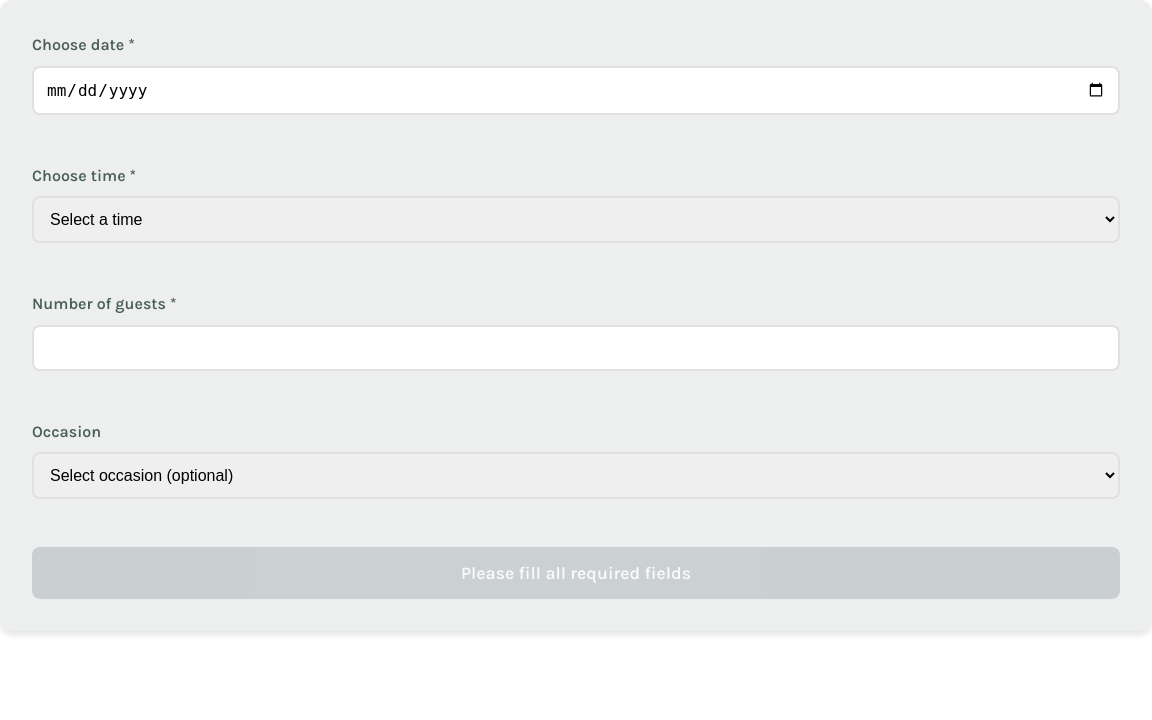
it: Guests validation works correctly
Note: Try to enter invalid number of guests
Type "0" into the number field labelled "Number of guests *" at [576, 348], box [32,325,1120,371]
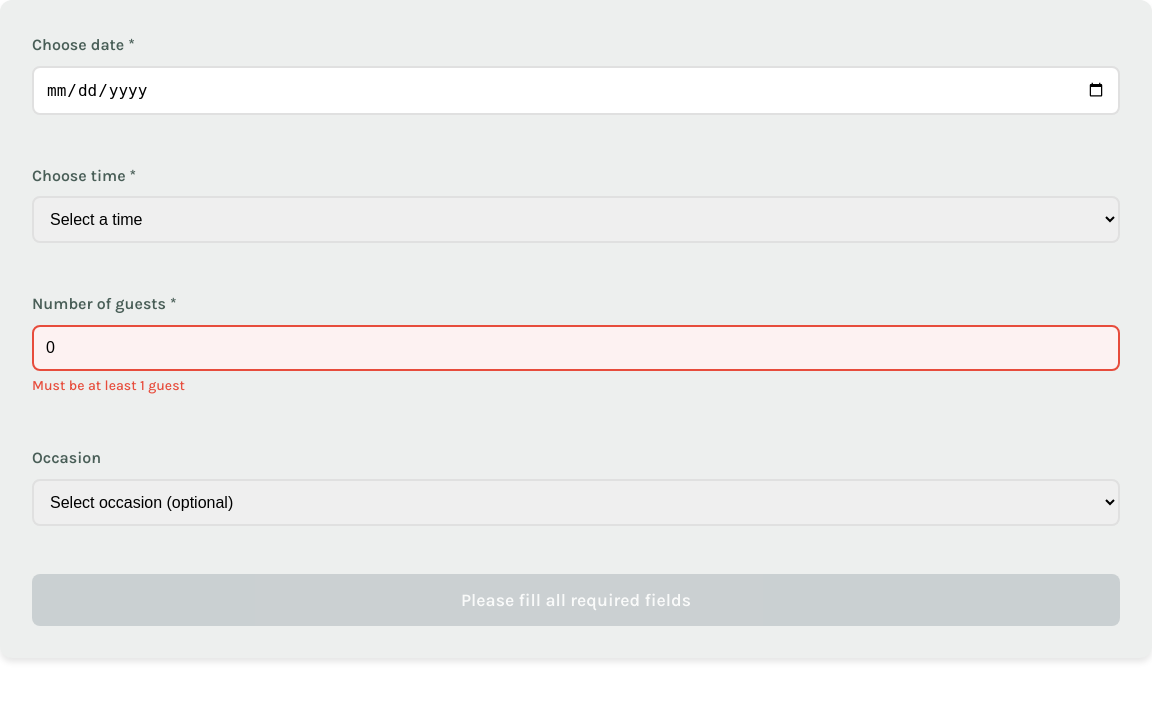
Expected: the text "Must be at least 1 guest" is shown, [32,377,185,394]
